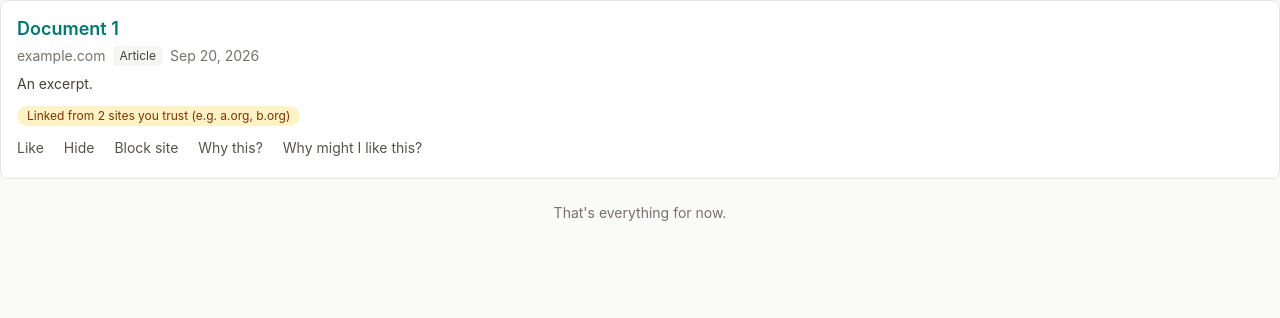
writes a summary once, and toggles it
Click the button "Why might I like this?": coordinates (353, 148) [275,134,430,162]
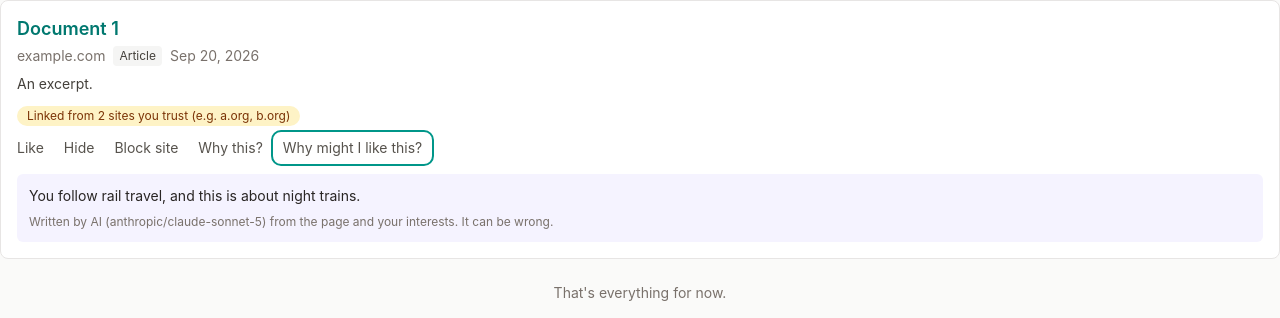
Now the text "You follow rail travel, and this is about night trains." is shown, box [29,187,360,204]
Now the text "Written by AI (anthropic/claude-sonnet-5)" is shown, box [29,214,553,229]
Click the button "Why might I like this?": coordinates (353, 148) [275,134,430,162]
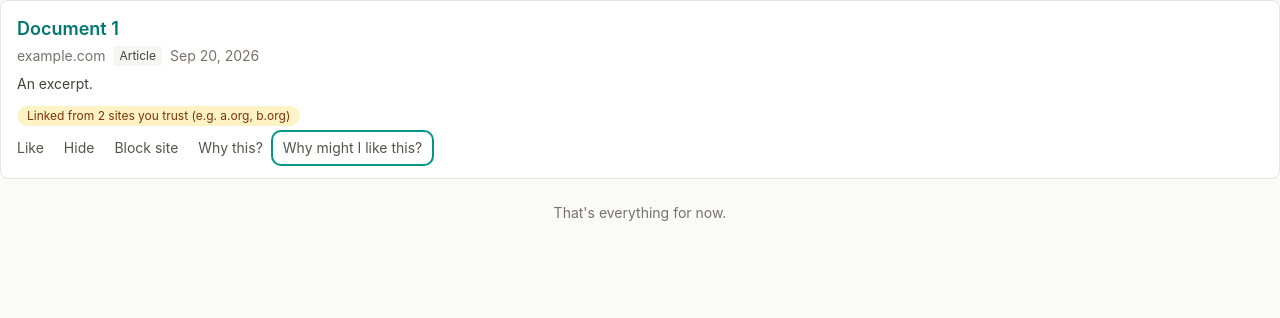
Now the text "You follow rail travel, and this is about night trains." is gone
Click the button "Why might I like this?": coordinates (353, 148) [275,134,430,162]
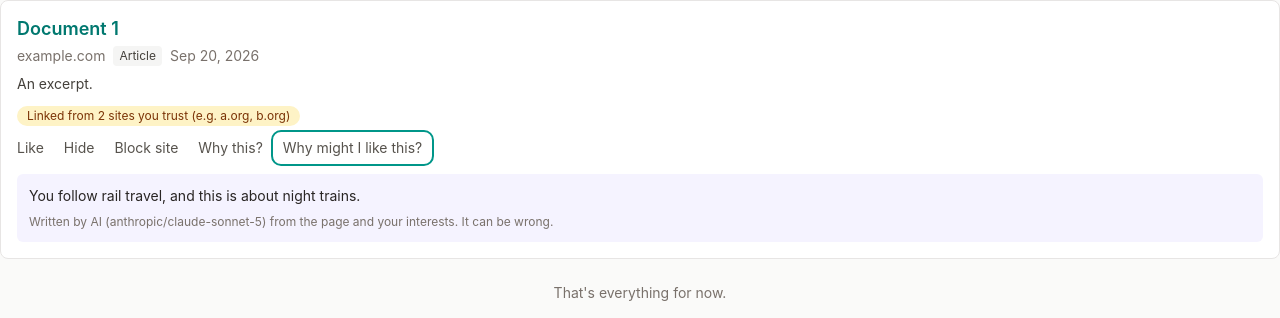
Now the text "You follow rail travel, and this is about night trains." is shown, box [29,187,360,204]
